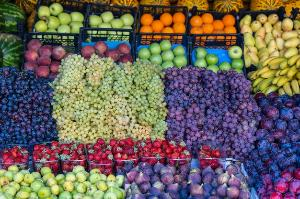apple: (26, 38, 74, 78), (194, 40, 244, 76), (36, 2, 84, 38), (142, 41, 188, 75), (84, 40, 134, 69), (88, 7, 134, 32)
banana: (254, 57, 300, 95)
figs: (126, 161, 248, 199), (0, 162, 124, 199)
grape: (57, 63, 158, 143), (168, 70, 256, 156)
orange: (187, 12, 239, 44), (138, 8, 184, 36)
pear: (235, 16, 300, 58)
plum: (255, 89, 300, 189), (0, 70, 48, 148)
strawberry: (0, 144, 220, 172)
